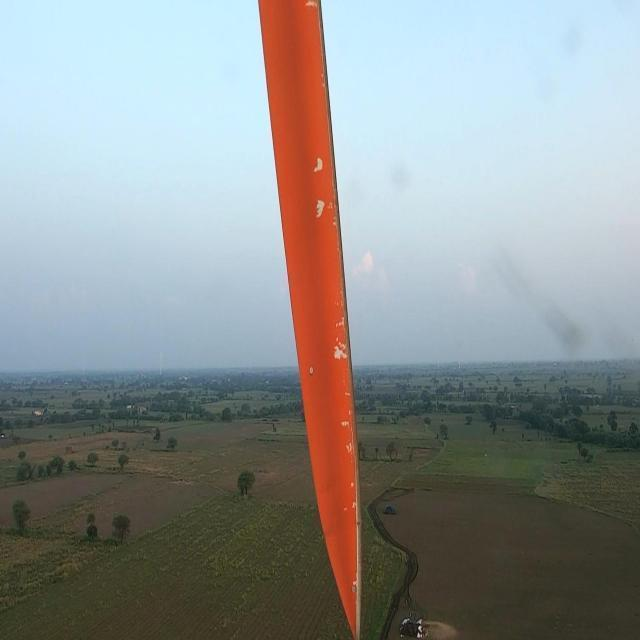PU-tape: (311, 155, 358, 515), (302, 0, 320, 17)
